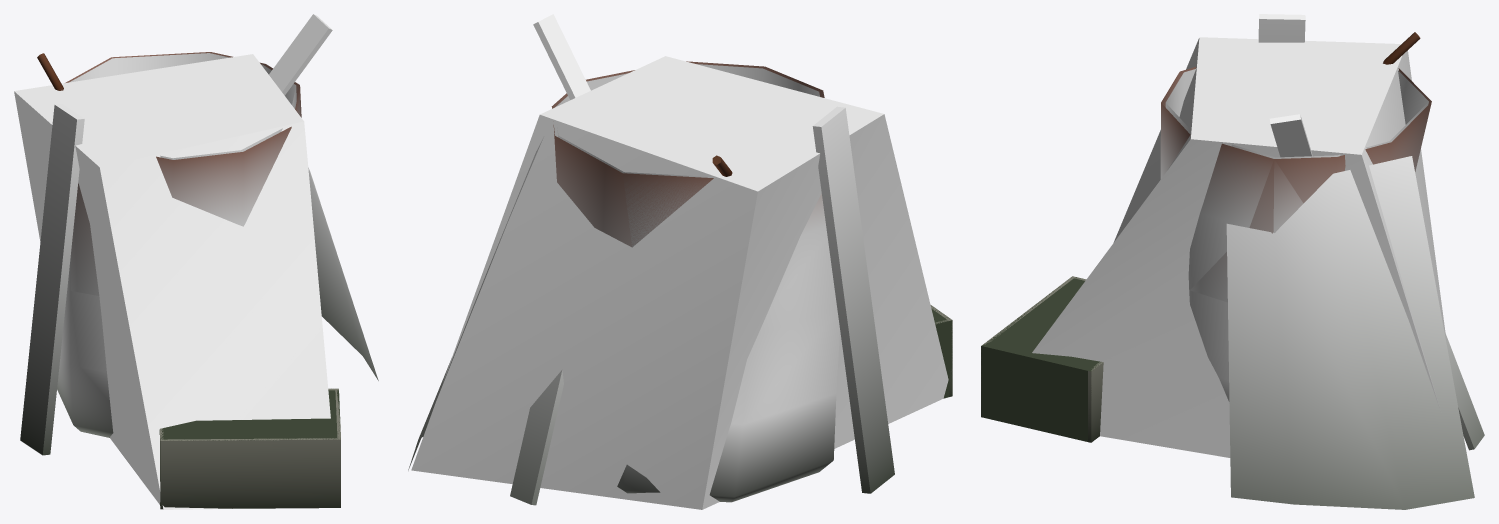
Rendered from eca_fv_junk_b.DAE.
3 views of the same model, side by side, from view 1: azimuth 30°, elevation 25°; view 2: azimuth 150°, elevation 25°; view 3: azimuth 270°, elevation 25° (orthographic). The views are drawn at different scales.
Parts seen in each view (by area): view 1: Colmesh-1, eca_fv_junk_b100, eca_fv_junk_b20, eca_fv_junk_b40; view 2: Colmesh-1, eca_fv_junk_b100, eca_fv_junk_b40, eca_fv_junk_b20; view 3: eca_fv_junk_b100, Colmesh-1, eca_fv_junk_b20, eca_fv_junk_b40.
Part boxes in pixels (x1,y1,x2,y2): Colmesh-1: [14, 54, 330, 509]; eca_fv_junk_b100: [20, 14, 378, 509]; eca_fv_junk_b20: [159, 388, 340, 505]; eca_fv_junk_b40: [67, 59, 301, 295]; Colmesh-1: [411, 56, 948, 509]; eca_fv_junk_b100: [408, 14, 952, 505]; eca_fv_junk_b40: [553, 61, 824, 247]; eca_fv_junk_b20: [931, 306, 952, 398]; eca_fv_junk_b100: [981, 14, 1484, 509]; Colmesh-1: [1032, 37, 1447, 457]; eca_fv_junk_b20: [981, 277, 1101, 441]; eca_fv_junk_b40: [1161, 67, 1431, 302].
Bounding box in the file's own units: 1.35 × 1.6 × 1.31.
